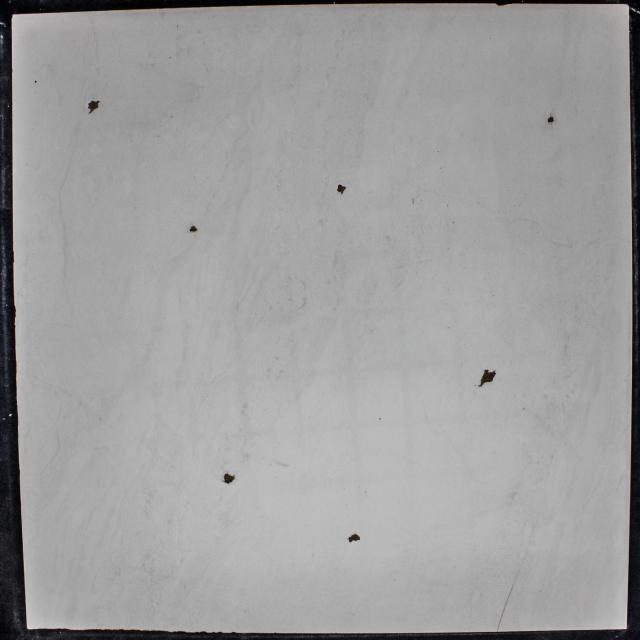edge-chipping: (495, 2, 508, 6)
hole: (478, 368, 497, 388), (87, 100, 101, 114), (222, 472, 236, 484), (348, 533, 360, 543), (337, 184, 347, 195), (546, 115, 554, 124), (189, 225, 198, 232), (34, 80, 38, 84)
line: (496, 574, 518, 631)
